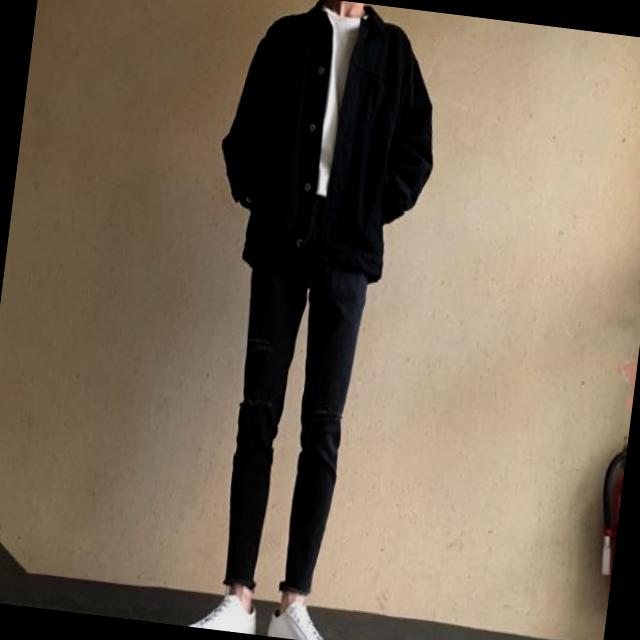denimpants: (212, 180, 378, 597)
jacket: (204, 0, 448, 287)
